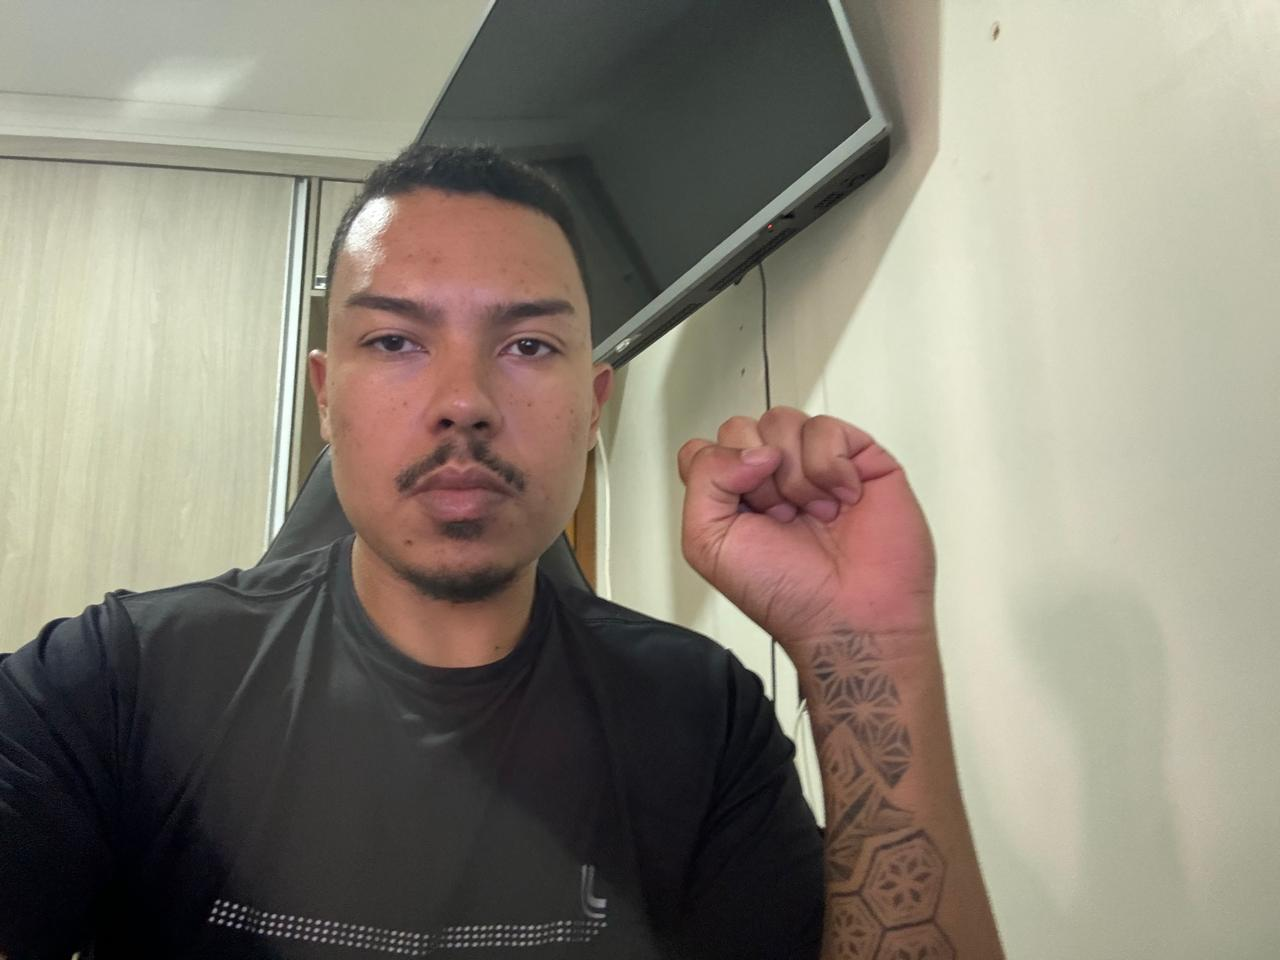s: (663, 386, 952, 657)
